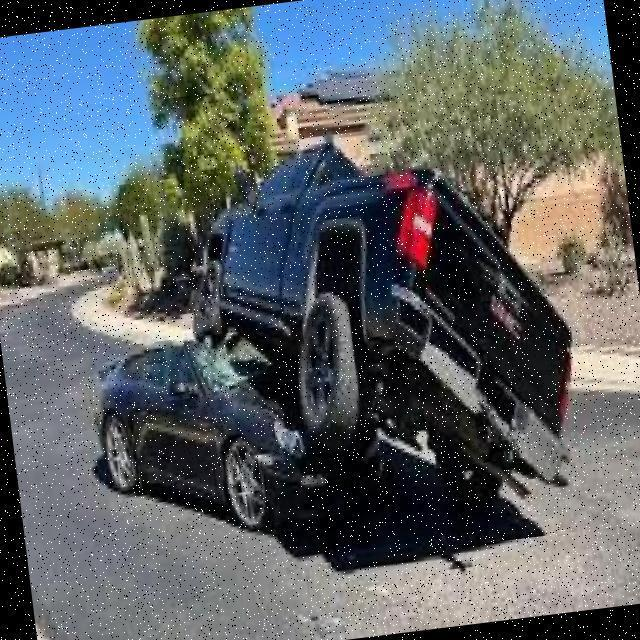accident: (104, 200, 536, 530)
